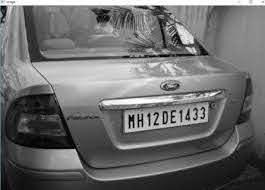number_plate: (124, 102, 209, 130)
